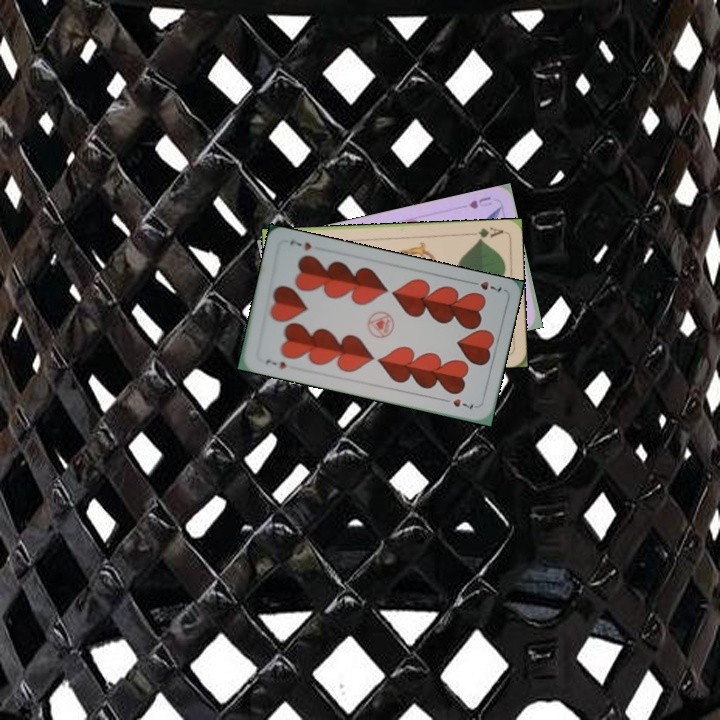GA: (474, 223, 506, 243)
H7: (465, 277, 504, 295), (262, 355, 289, 372)
HU: (465, 192, 495, 212)
